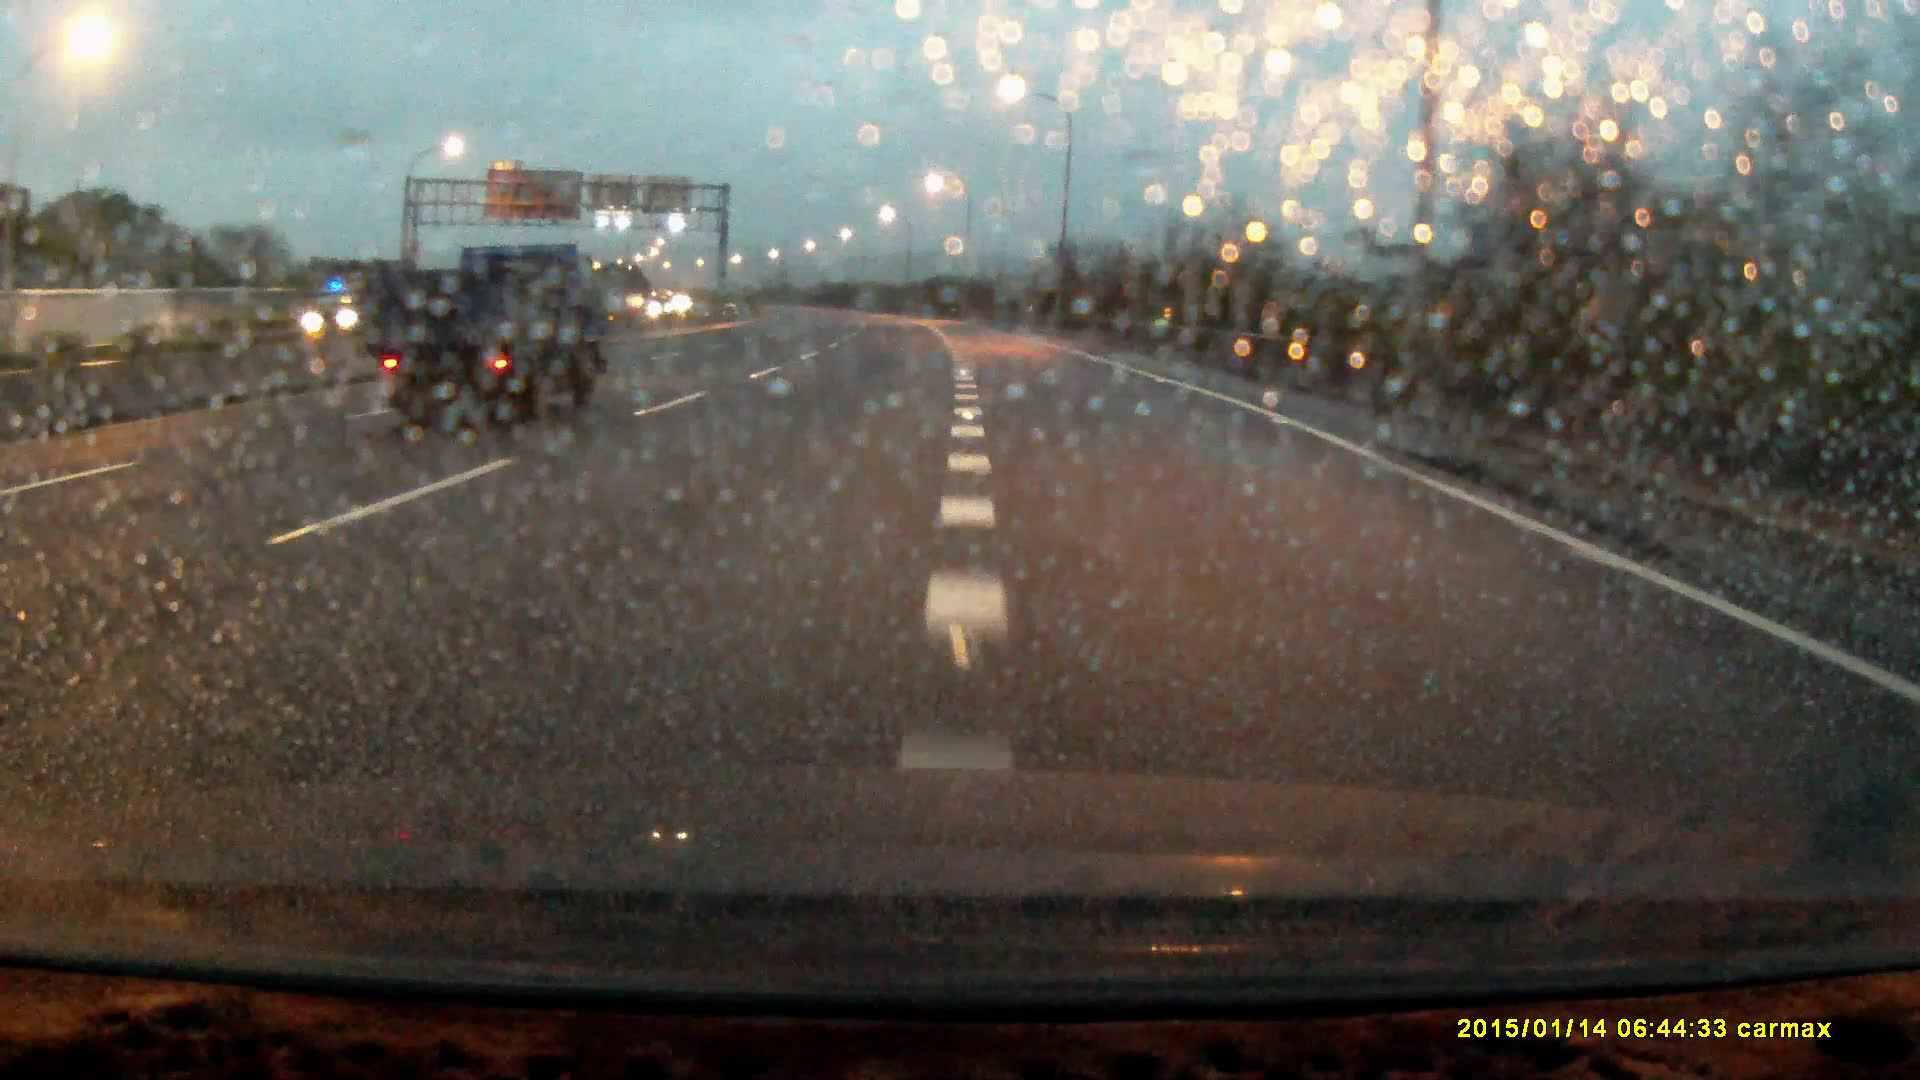vehicle: (367, 241, 597, 425)
